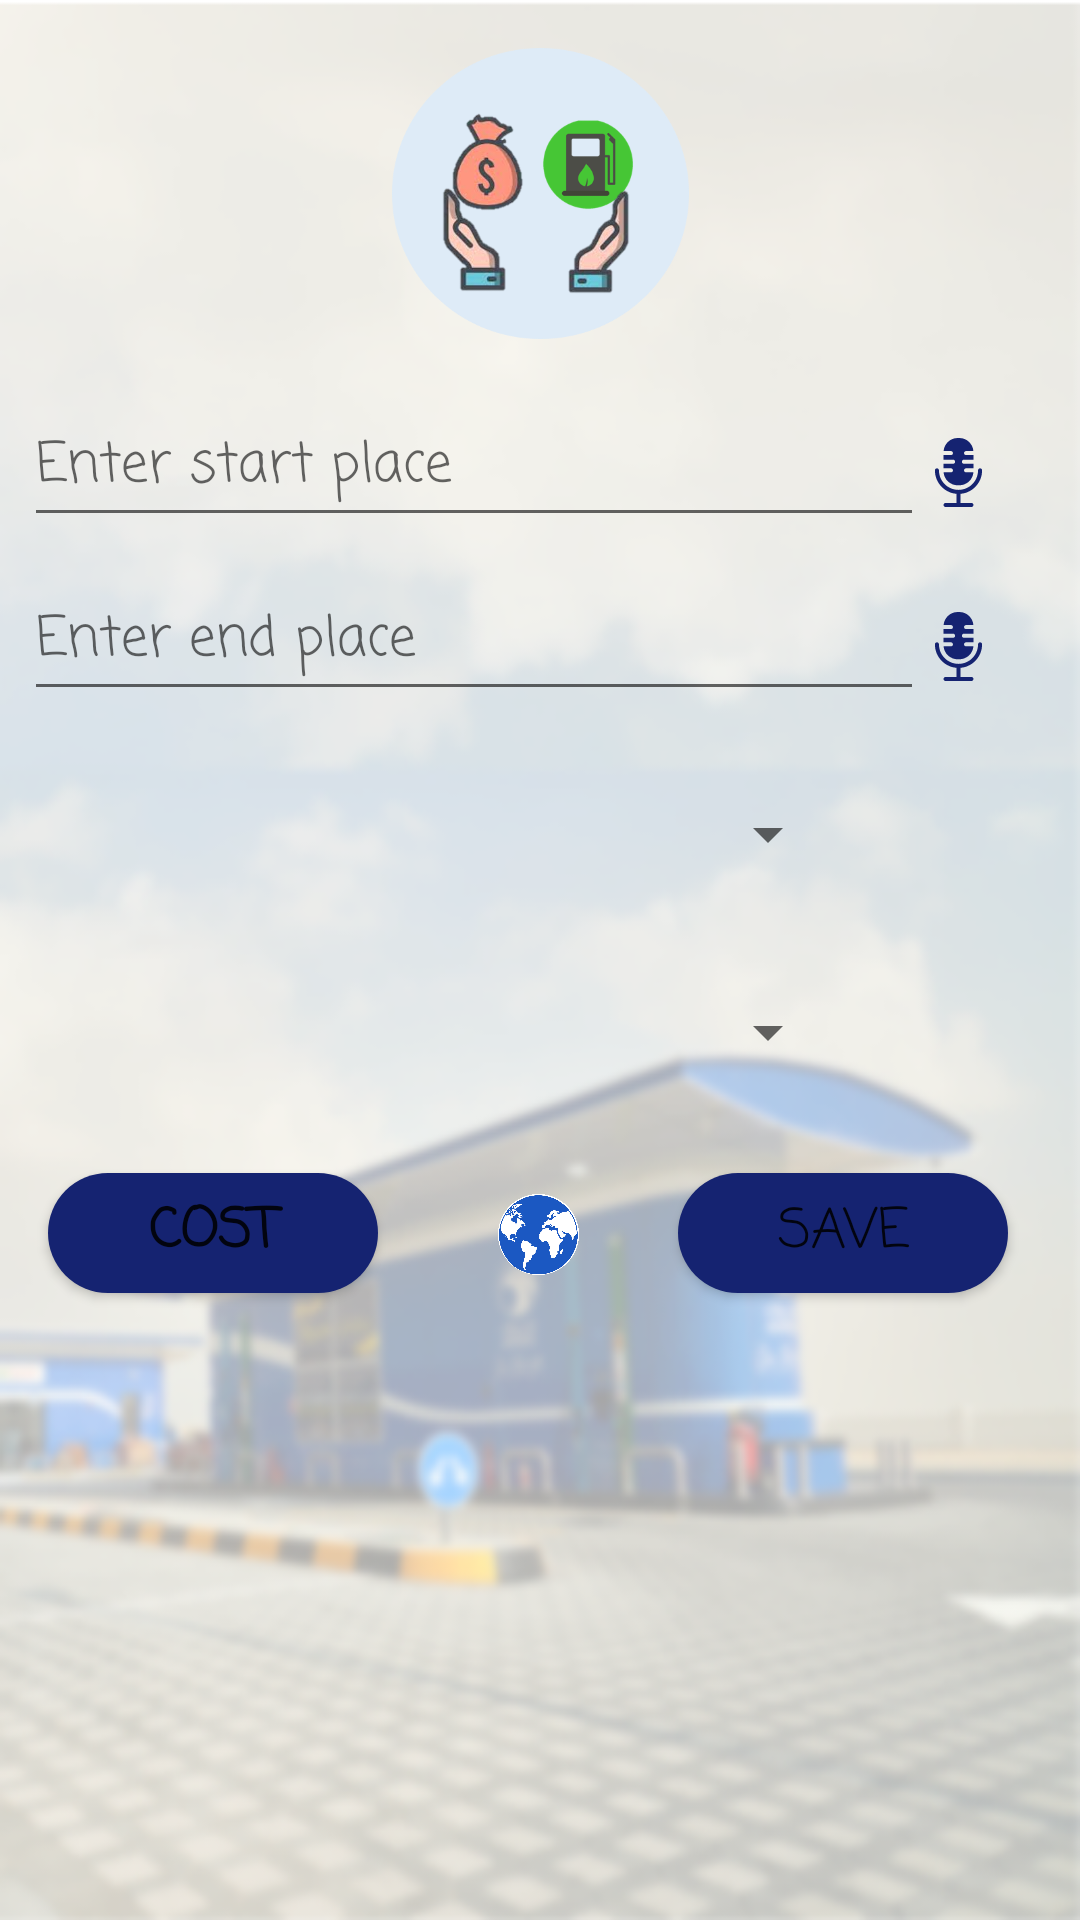

Icon click points for this 1080px×1920px phone screenshot, format point (x, y):
map: point (538, 1234)
mic: point (958, 472), point (958, 646)
